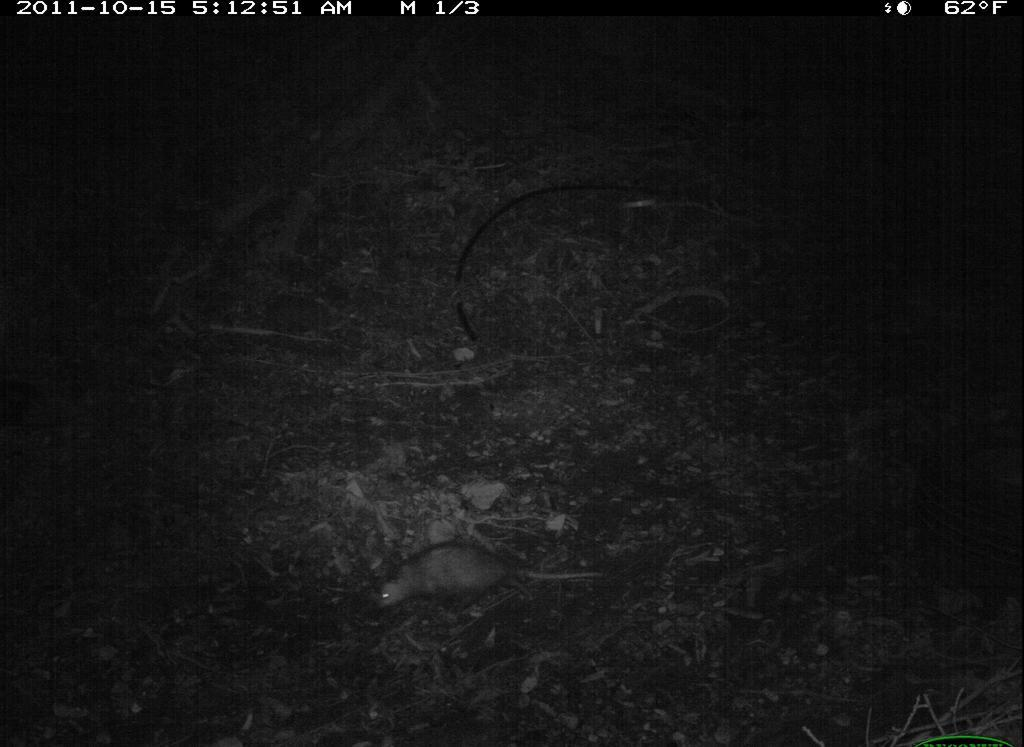opossum: (373, 538, 607, 616)
